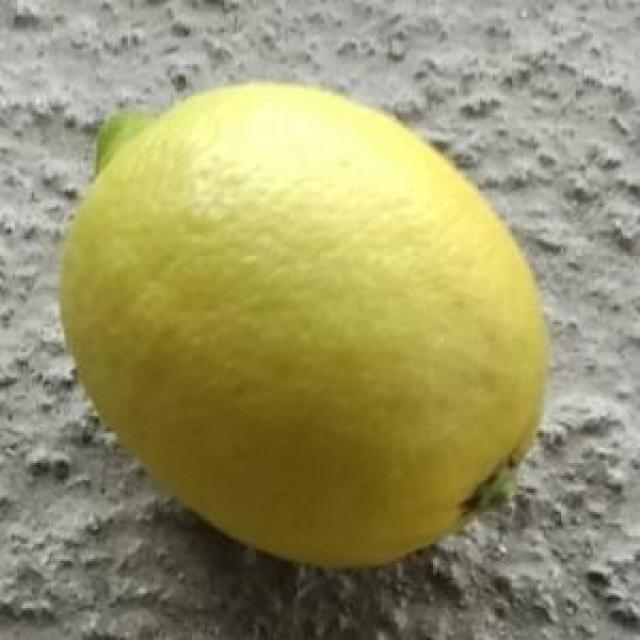lemon: (57, 83, 551, 576)
